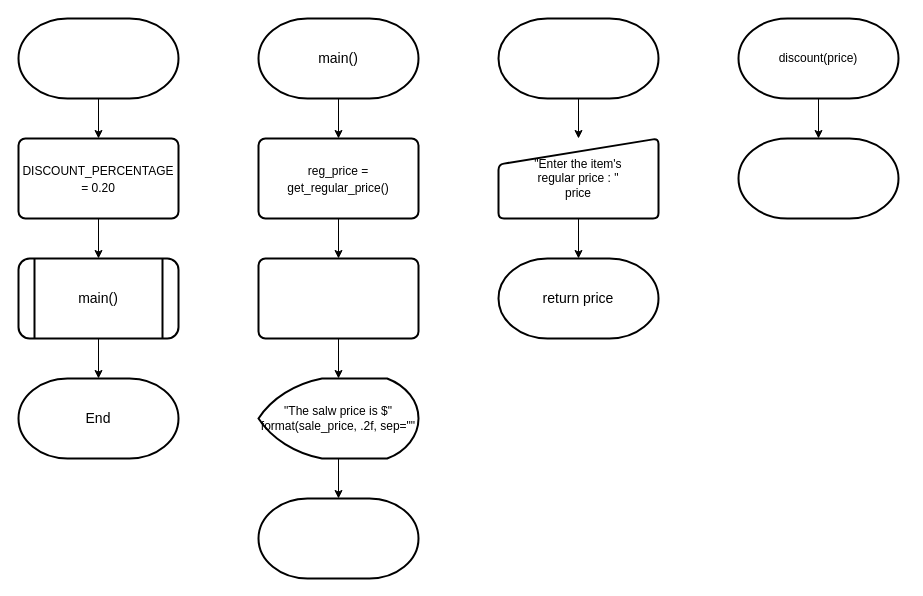
The diagram is 923 pixels wide and 596 high, and some of its shapes have lost their labels. The shapes that lost their labels are listed below. From the top down, each one's box as (x1, y1, x2, y2) in pixels, then its label:
(17, 17, 179, 99): Start
(497, 17, 659, 99): get_regular_price()
(737, 137, 899, 219): return price * DISCOUNT_PERCENTAGE
(257, 257, 419, 339): sale_price = reg_price - discount(reg_price)
(257, 497, 419, 579): return
